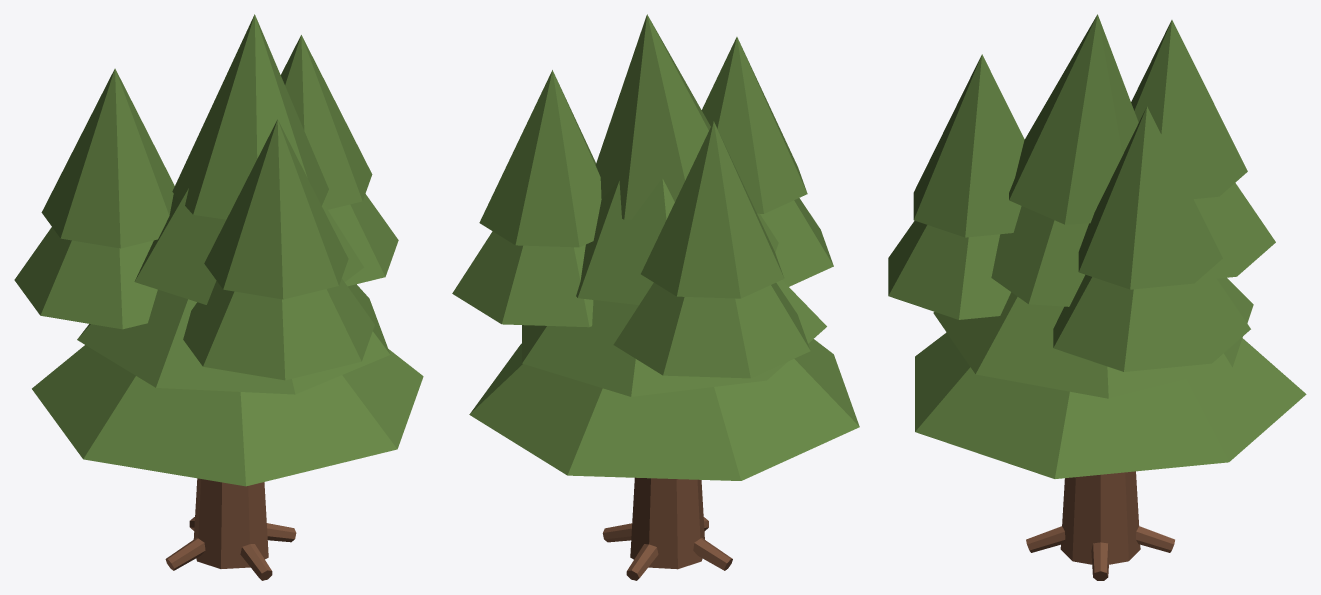
Rendered from tree_large_b.glb.
3 views of the same model, side by side, from view 1: azimuth 30°, elevation 25°; view 2: azimuth 150°, elevation 25°; view 3: azimuth 270°, elevation 25° (orthographic). The views are drawn at different scales.
Parts seen in each view (by area): view 1: tree_large_b; view 2: tree_large_b; view 3: tree_large_b.
Boxes of the visible parts, x1,y1,x2,y2 form: tree_large_b: (14,14,423,580); tree_large_b: (452,14,859,580); tree_large_b: (888,14,1306,580).
Size of the model in its own units: 7.49 by 11 by 7.6.
